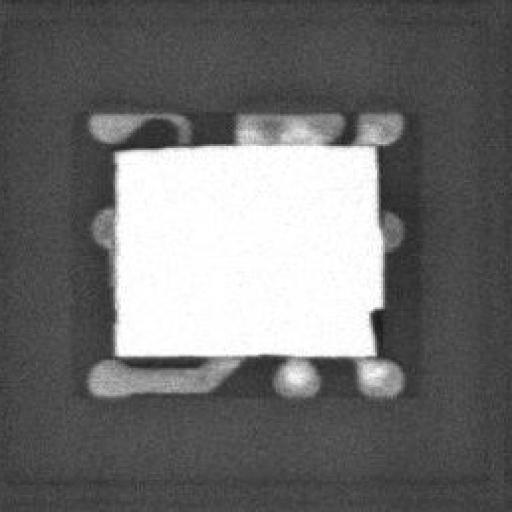DIE_BROKEN: (111, 140, 216, 154), (367, 142, 381, 239), (363, 304, 381, 354)
